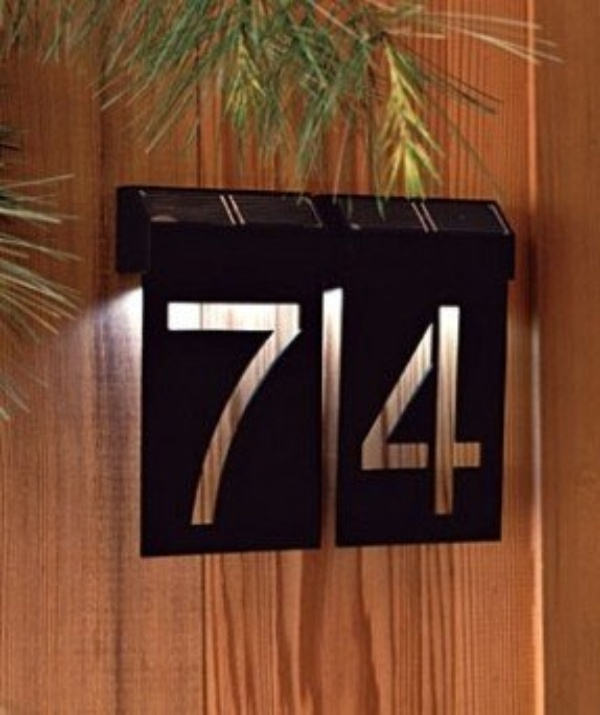text: (177, 299, 192, 527), (193, 299, 208, 527), (209, 299, 224, 527), (225, 299, 240, 527), (241, 299, 256, 527), (257, 299, 272, 527), (273, 299, 288, 527), (289, 299, 304, 527), (369, 306, 384, 519), (385, 306, 400, 519), (401, 306, 416, 519), (417, 306, 432, 519), (433, 306, 448, 519), (449, 306, 464, 519), (465, 306, 480, 519), (164, 299, 176, 527), (360, 306, 368, 519), (481, 306, 483, 519)
